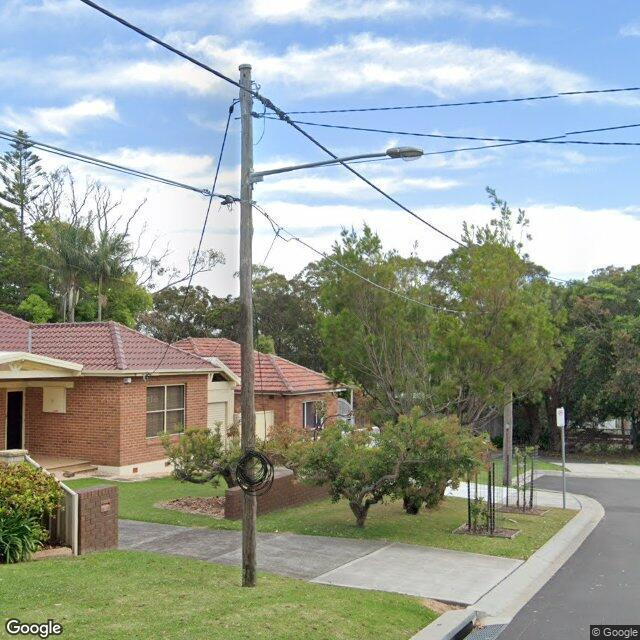streetlight: (251, 145, 425, 182)
timber-pole: (238, 62, 257, 588), (504, 400, 513, 488)
